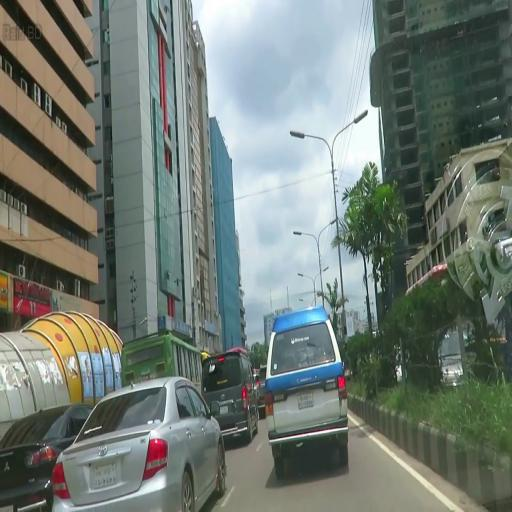bus: (117, 334, 206, 387)
car: (52, 377, 231, 512)
van: (264, 302, 354, 486), (201, 350, 261, 444)
